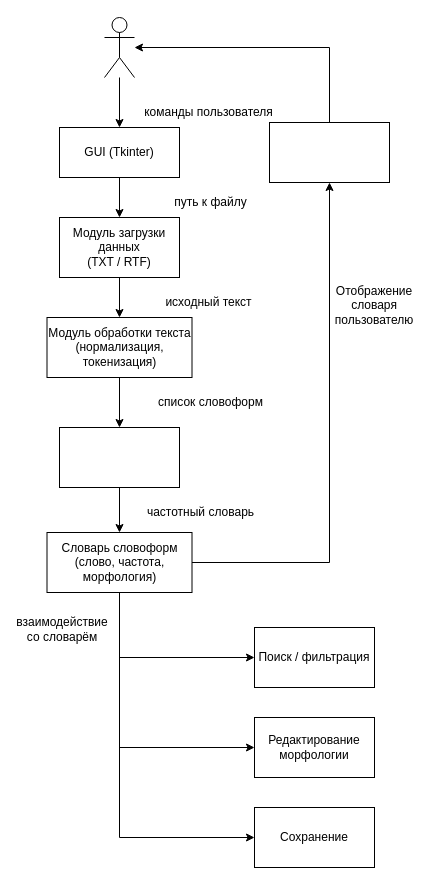
Some shapes in this 431 by 885 pixel diagram are drawn without their labels. The shapes that lost their labels are listed below. From the top down, each one's centre as x and y in pixels, then its label:
At [119,47]: "Actor".
At [329,152]: "GUI".
At [119,457]: "Модуль частотного анализа".
